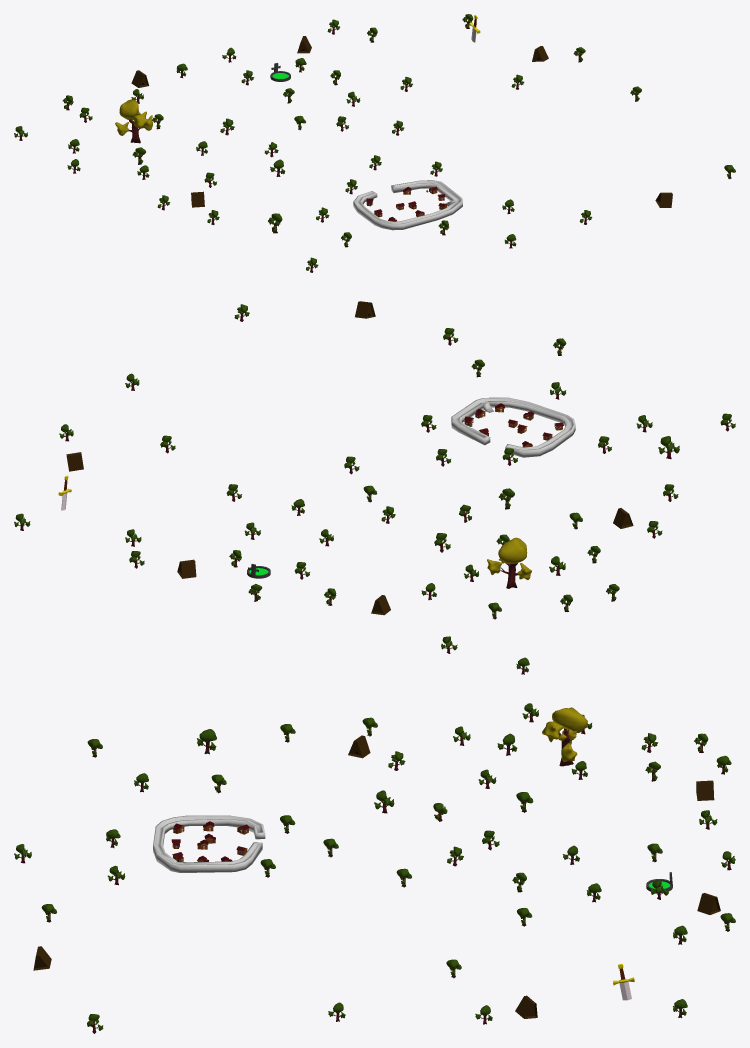
The model's file is static-objects.glb.
3 views of the same model, one above another, from view 1: azimuth 30°, elevation 25°; view 2: azimuth 150°, elevation 25°; view 3: azimuth 270°, elevation 25° (orthographic). The views are drawn at different scales.
Parts seen in each view (by area): view 1: Cube.012; view 2: Cube.012; view 3: Cube.012, Sphere.157.
Part boxes in pixels (x1,y1,x2,y2): Cube.012: (353, 180, 462, 230); Cube.012: (451, 397, 575, 457); Cube.012: (153, 815, 265, 872); Sphere.157: (552, 707, 587, 732).
Bounding box in the file's own units: 547 × 66.5 × 529.
19 materials, 1 textured.
